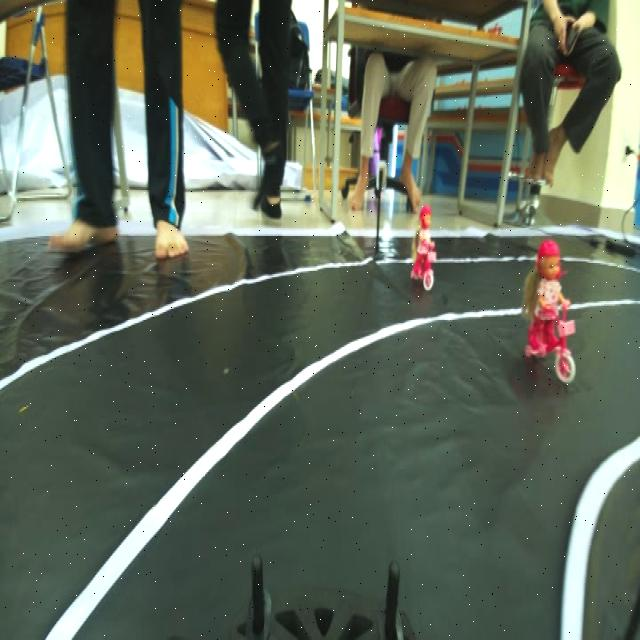pedestrian: (522, 229, 583, 381), (404, 196, 446, 289)
